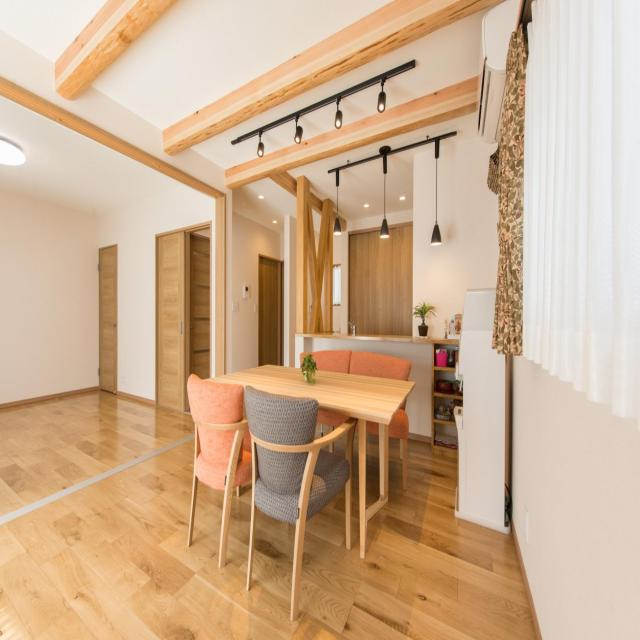natural chair: (242, 381, 357, 627), (181, 370, 242, 563)
natural desk: (200, 363, 418, 561)
